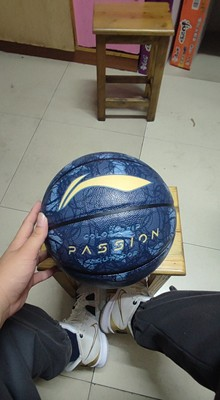ball: (39, 150, 177, 289)
